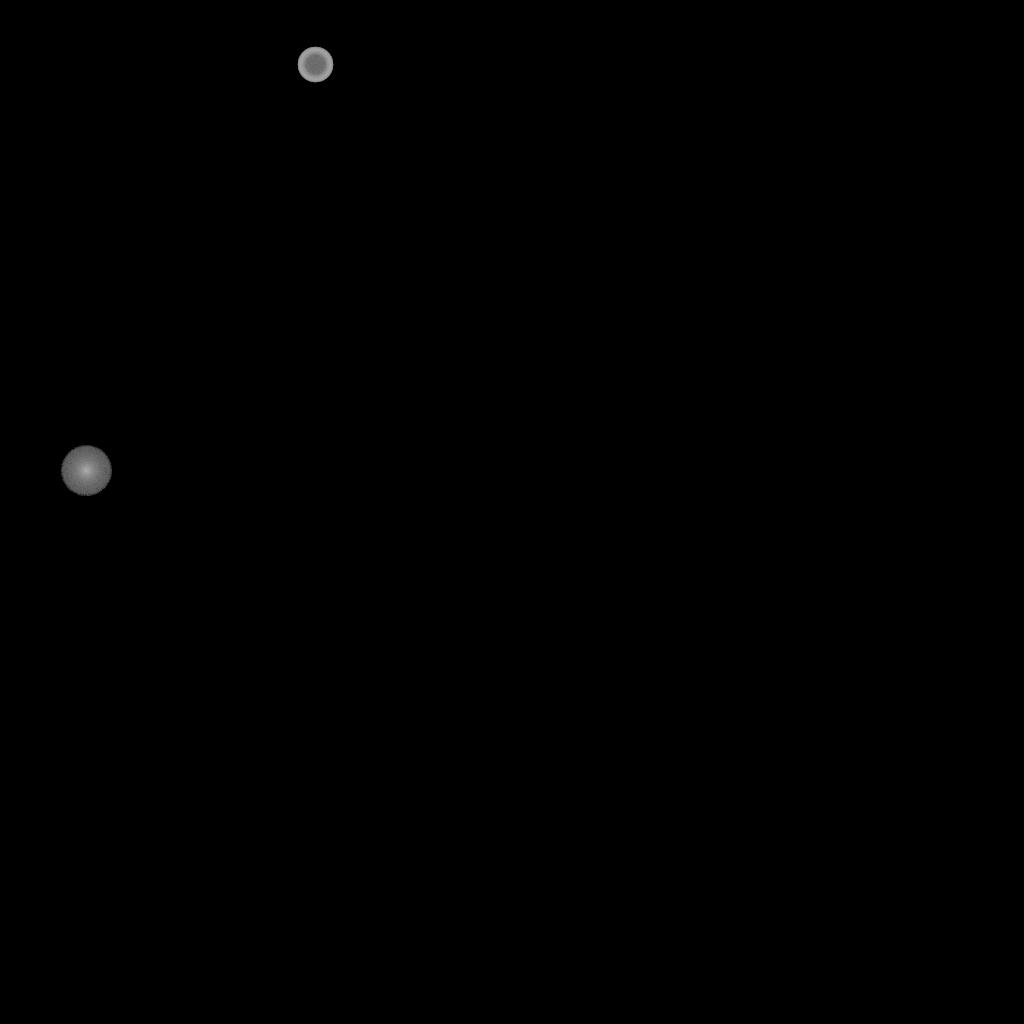depth:-60: (297, 47, 333, 83)
depth:20: (60, 446, 112, 496)
